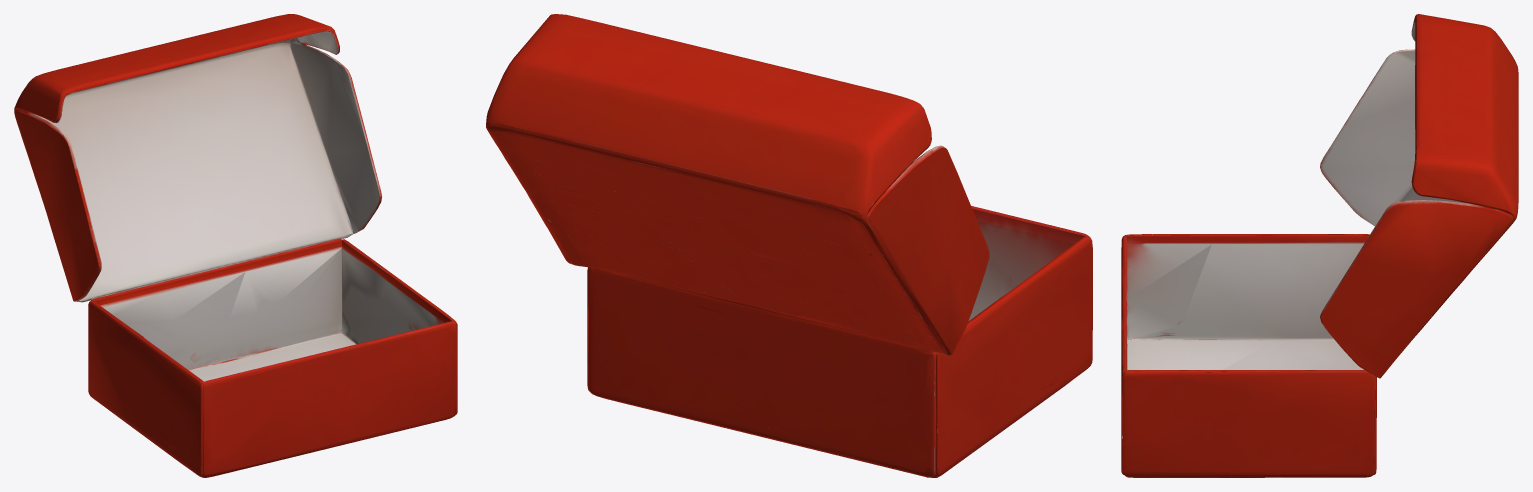
Rendered from test_2-BSiVWmAW.glb.
3 views of the same model, side by side, from view 1: azimuth 30°, elevation 25°; view 2: azimuth 150°, elevation 25°; view 3: azimuth 270°, elevation 25° (orthographic). The views are drawn at different scales.
Parts seen in each view (by area): view 1: node_0; view 2: node_0; view 3: node_0.
Boxes of the visible parts, x1,y1,x2,y2 form: node_0: (14, 14, 457, 477); node_0: (486, 14, 1092, 477); node_0: (1121, 14, 1518, 477).
Size of the model in its own units: 3.55 by 3.53 by 3.86.
Materials: 1 (1 with a texture image).
